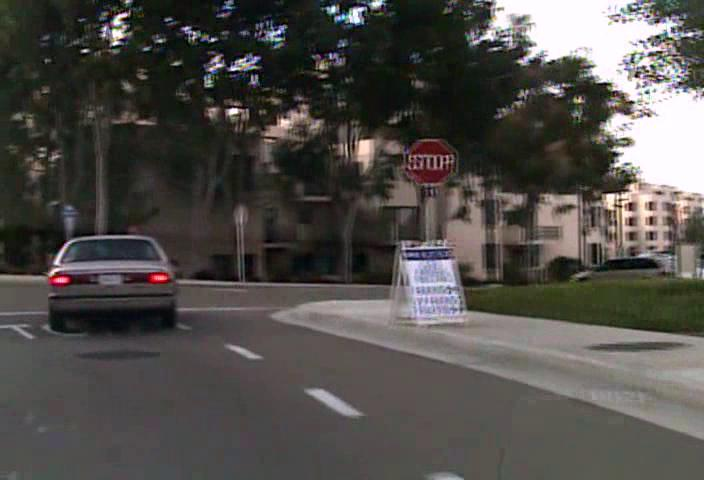stop: (404, 137, 457, 185)
